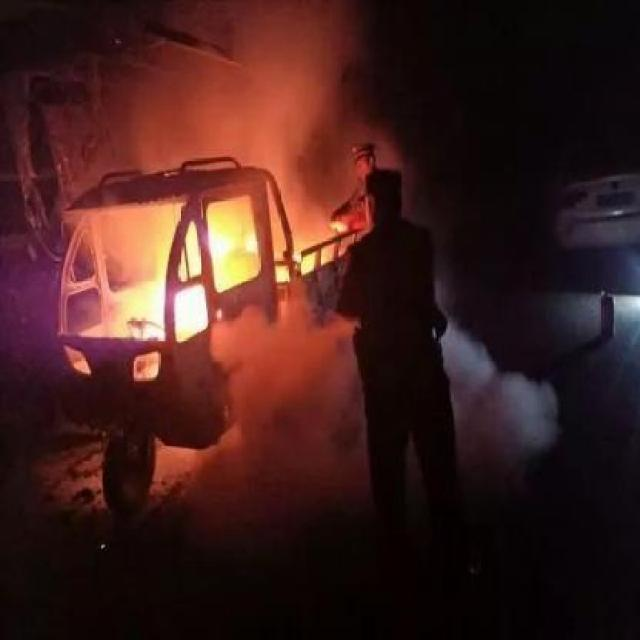Fire: (148, 274, 208, 336), (213, 210, 259, 264)
Smoke: (236, 14, 330, 250), (448, 329, 562, 458)
